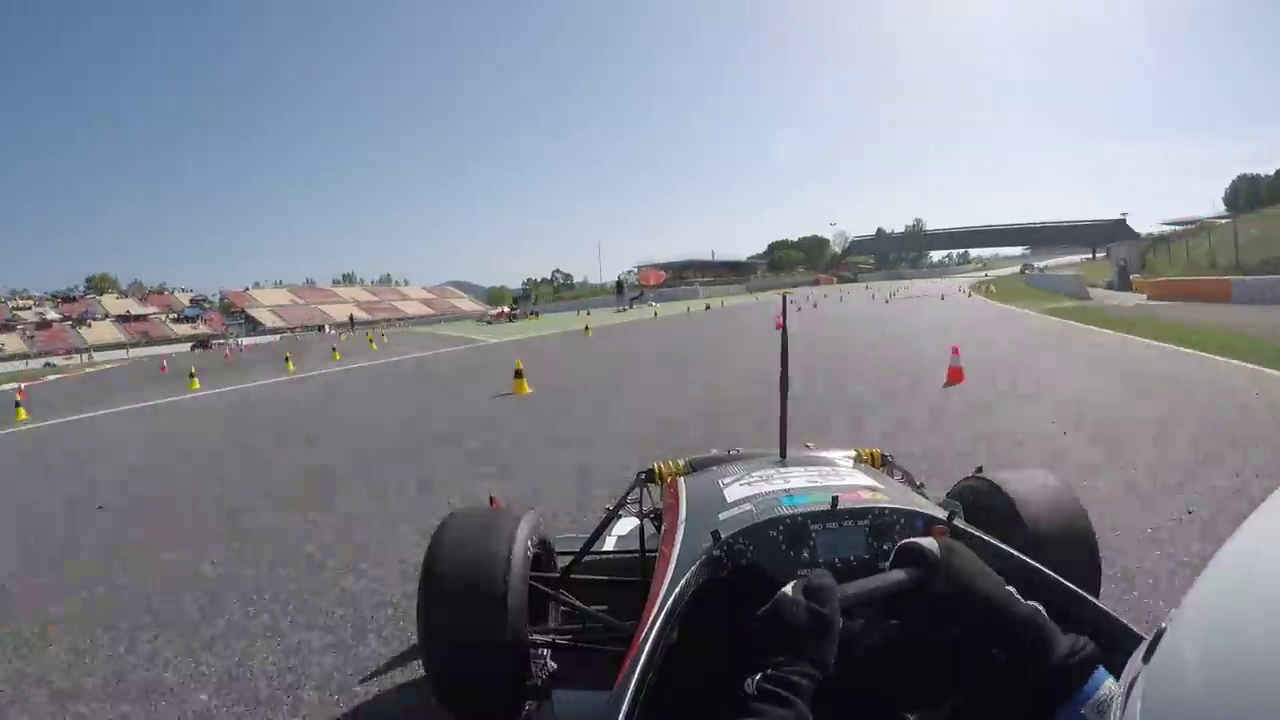Cone: (508, 358, 538, 398), (945, 345, 970, 388)
